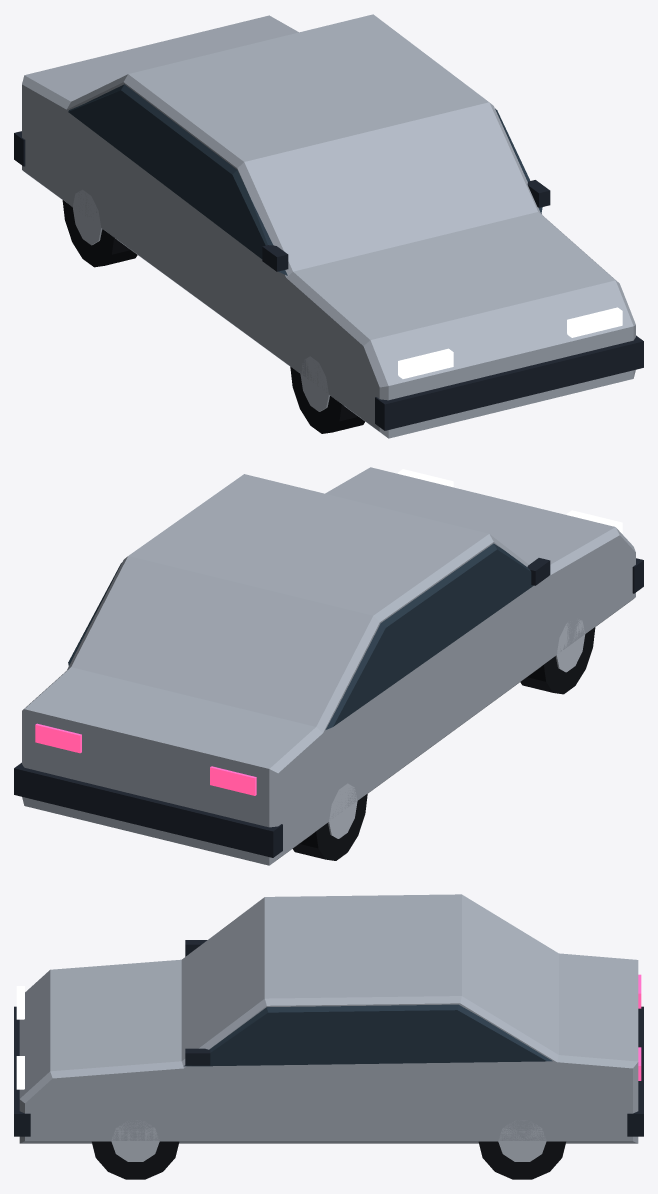
Rendered from car_sedan_silver.glb.
3 renders of one model, top to bottom at view 1: azimuth 30°, elevation 25°; view 2: azimuth 150°, elevation 25°; view 3: azimuth 270°, elevation 25°, orthographic. The views are drawn at different scales.
Visible parts, largest first — view 1: body; view 2: body; view 3: body.
Part boxes in pixels (box(x1,y1,x2,y2)): body: box(14, 14, 643, 438); body: box(14, 467, 643, 865); body: box(14, 894, 643, 1179).
Bounding box in the file's own units: 1.94 × 1.45 × 4.56.
